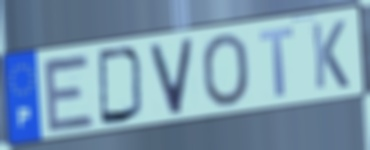D: (96, 45, 147, 128)
E: (40, 52, 98, 135)
K: (309, 18, 352, 92)
O: (199, 31, 251, 109)
T: (256, 25, 297, 101)
V: (147, 35, 196, 118)
